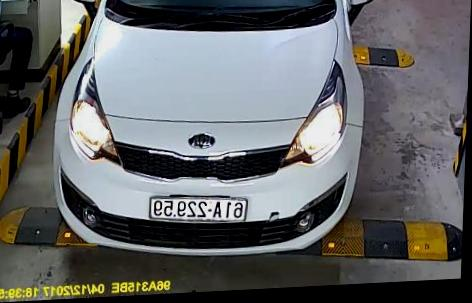License_Plate: (151, 193, 250, 223)
